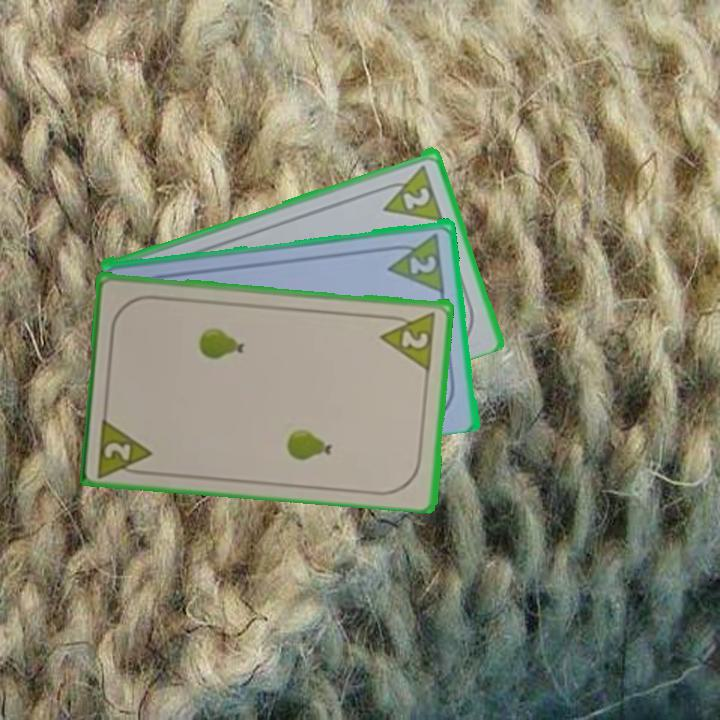2p: (383, 229, 448, 294), (95, 412, 156, 479), (377, 307, 439, 372), (399, 183, 433, 212)
